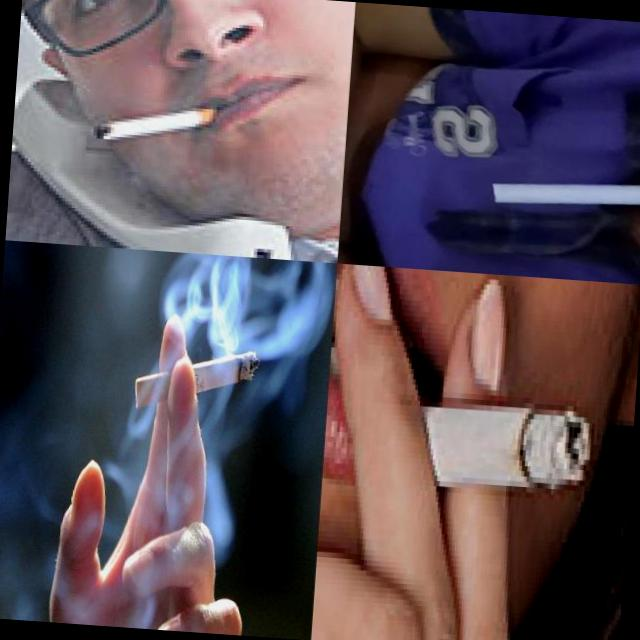cigarette: (350, 390, 596, 498), (133, 342, 260, 417), (92, 96, 230, 150), (487, 169, 640, 214)
